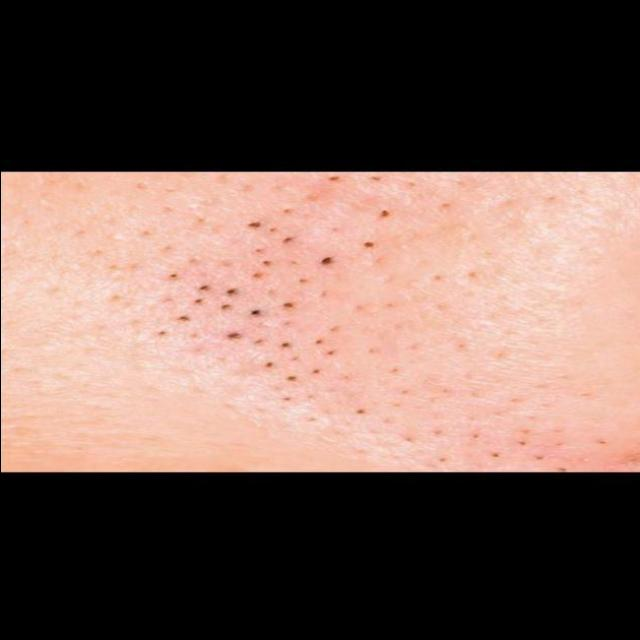blackhead: (130, 185, 464, 423)
